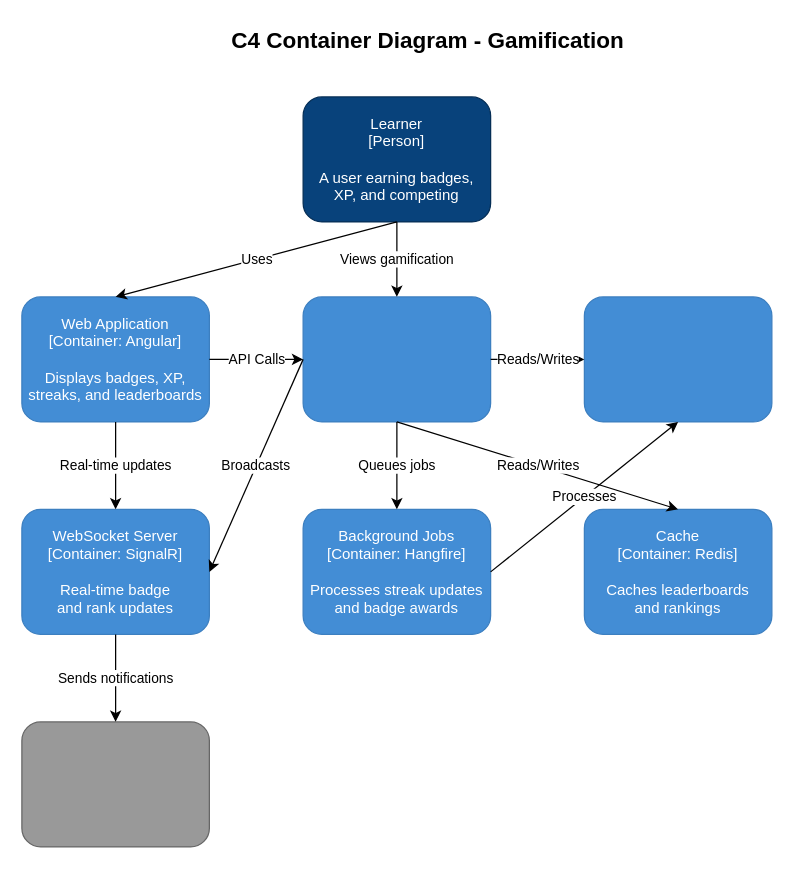
Image size: 794x869. Some labels were removed from this diagram. The centre of each missing label's shape, as x and y in pixels:
API Application [Container: ASP.NET Core] Manages gamification logic and rewards: pixel 396 359
Database [Container: SQL Server] Stores badges, XP, streaks, challenges: pixel 677 359
Notification Service [External System] Sends achievement notifications: pixel 115 784
